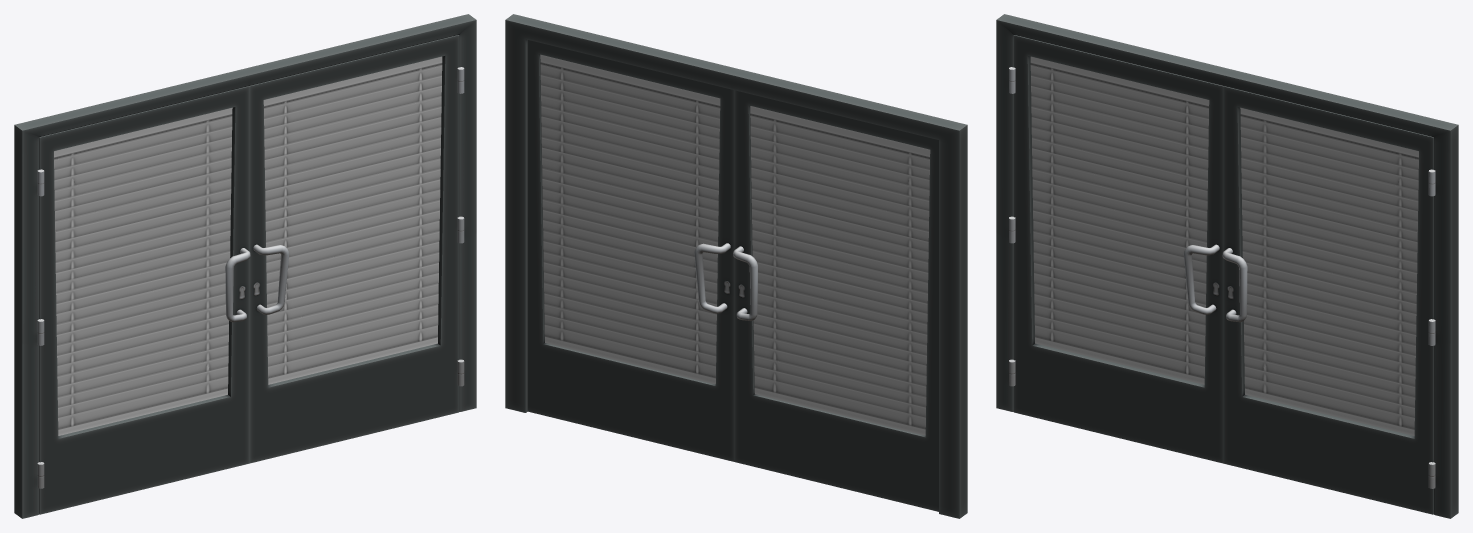
Rendered from PropDoor03TypeB.FBX.
3 views of the same model, side by side, from view 1: azimuth 30°, elevation 25°; view 2: azimuth 150°, elevation 25°; view 3: azimuth 330°, elevation 25° (orthographic).
Parts seen in each view (by area): view 1: GlassL, GlassR, DoorR, DoorL, Frame; view 2: GlassL, GlassR, Frame, DoorR, DoorL; view 3: GlassR, GlassL, DoorL, DoorR, Frame.
Boxes of the visible parts, box(x1,y1,x2,y2) form: GlassL: box(54, 107, 232, 435); GlassR: box(263, 56, 442, 384); DoorR: box(249, 35, 464, 463); DoorL: box(37, 86, 250, 514); Frame: box(14, 14, 476, 518); GlassL: box(750, 106, 930, 435); GlassR: box(540, 54, 720, 384); Frame: box(505, 14, 967, 518); DoorR: box(527, 40, 734, 461); DoorL: box(733, 90, 938, 511); GlassR: box(1240, 107, 1418, 435); GlassL: box(1030, 56, 1209, 384); DoorL: box(1009, 35, 1223, 463); DoorR: box(1222, 86, 1435, 514); Frame: box(996, 14, 1458, 518).
Size of what is drawn, in the model's own units: 3 by 2.45 by 0.3031.
